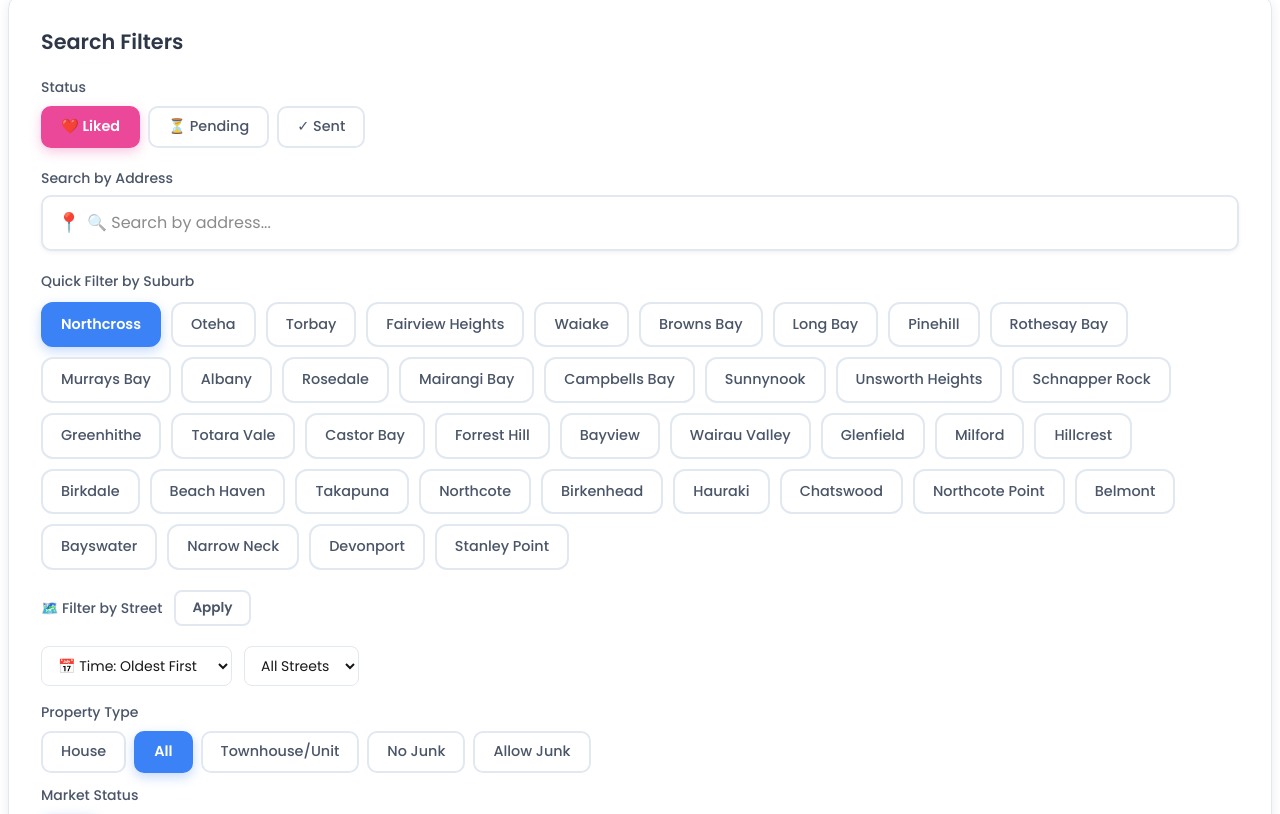
Test: Outreach page - List view mobile layout › renders address next to checkbox in list view
The width and height of the screenshot is (1280, 814).
Click the button "⏳ Pending".
click(209, 127)  # box 148,106 -> 269,148
(page scrolled)
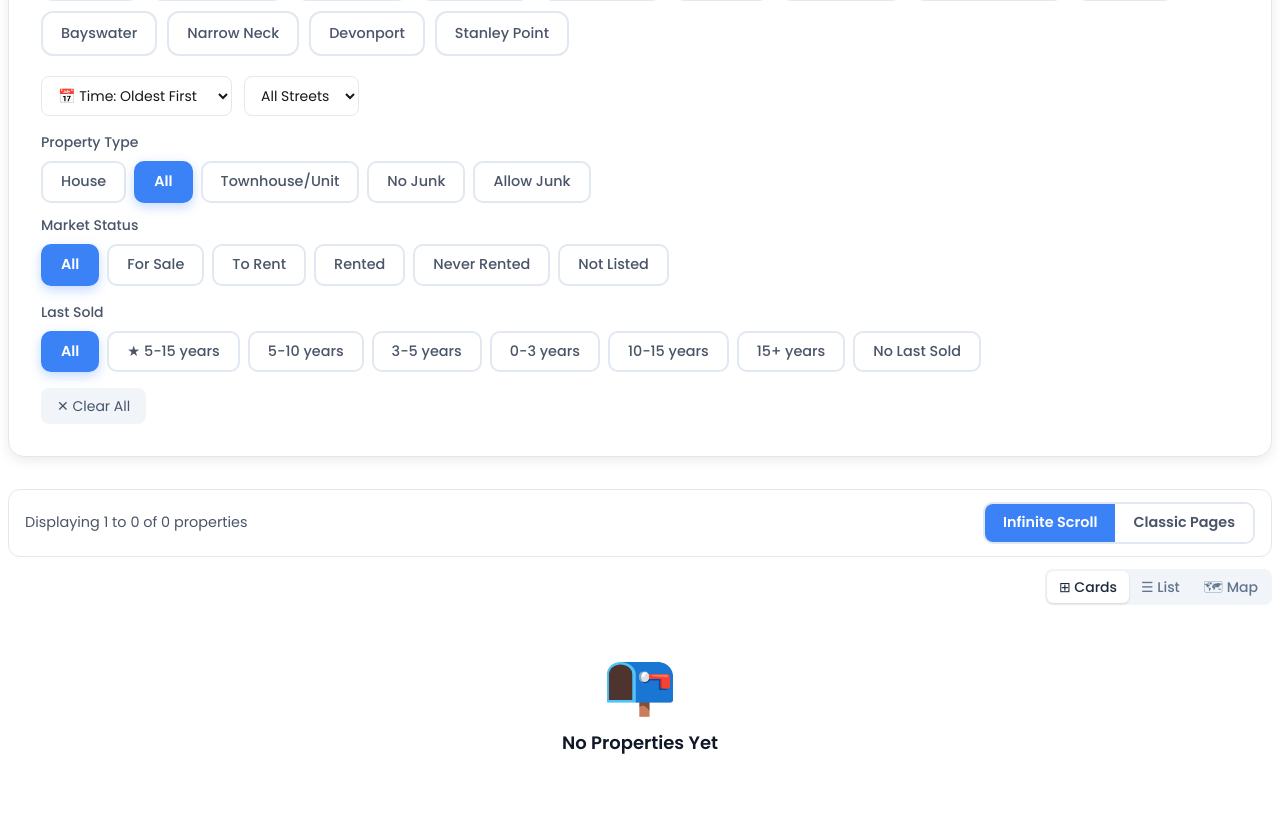
Click the button "☰ List".
click(1160, 587)  # box 1129,571 -> 1192,603
(page scrolled)
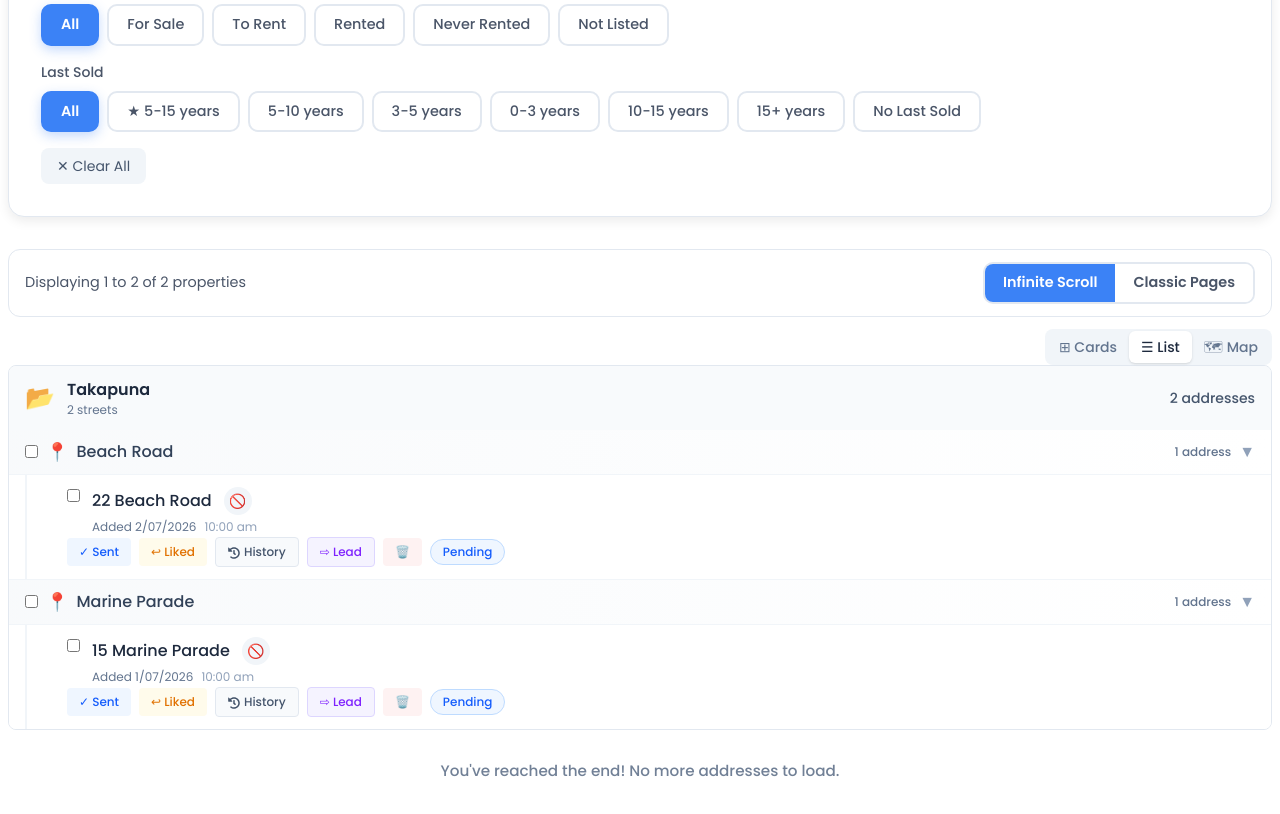
Expected: the text "15 Marine Parade" is shown, 92,639 -> 230,663
